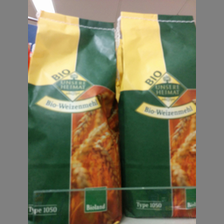flour: (28, 10, 123, 223), (117, 12, 195, 219)
